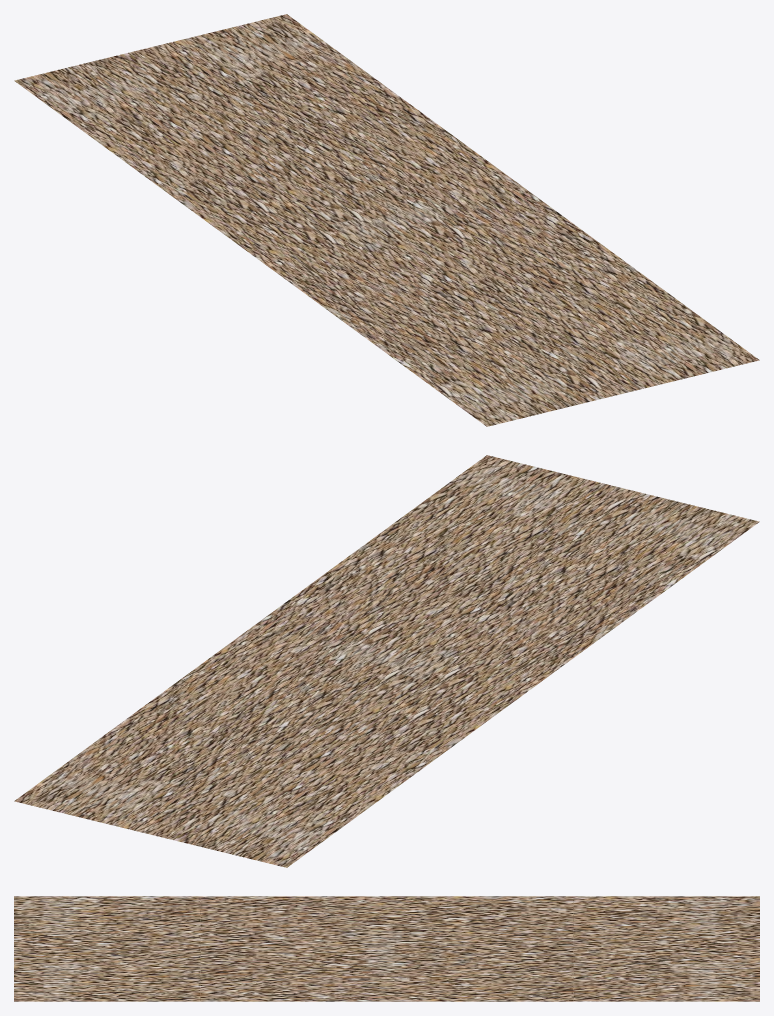
File: ground.FBX
The picture shows the model from 3 angles, top to bottom: view 1: azimuth 30°, elevation 25°; view 2: azimuth 150°, elevation 25°; view 3: azimuth 270°, elevation 25°; orthographic projection. The views are drawn at different scales.
Parts seen in each view (by area): view 1: Plane001; view 2: Plane001; view 3: Plane001.
Part boxes in pixels (x1,y1,x2,y2): Plane001: (14, 14, 759, 426); Plane001: (14, 455, 759, 867); Plane001: (14, 896, 759, 1001).
Bounding box in the file's own units: 3.51 × 6.46e-16 × 10.55.
Materials: 1 (1 with a texture image).
